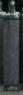cylinder: (0, 1, 23, 95)
